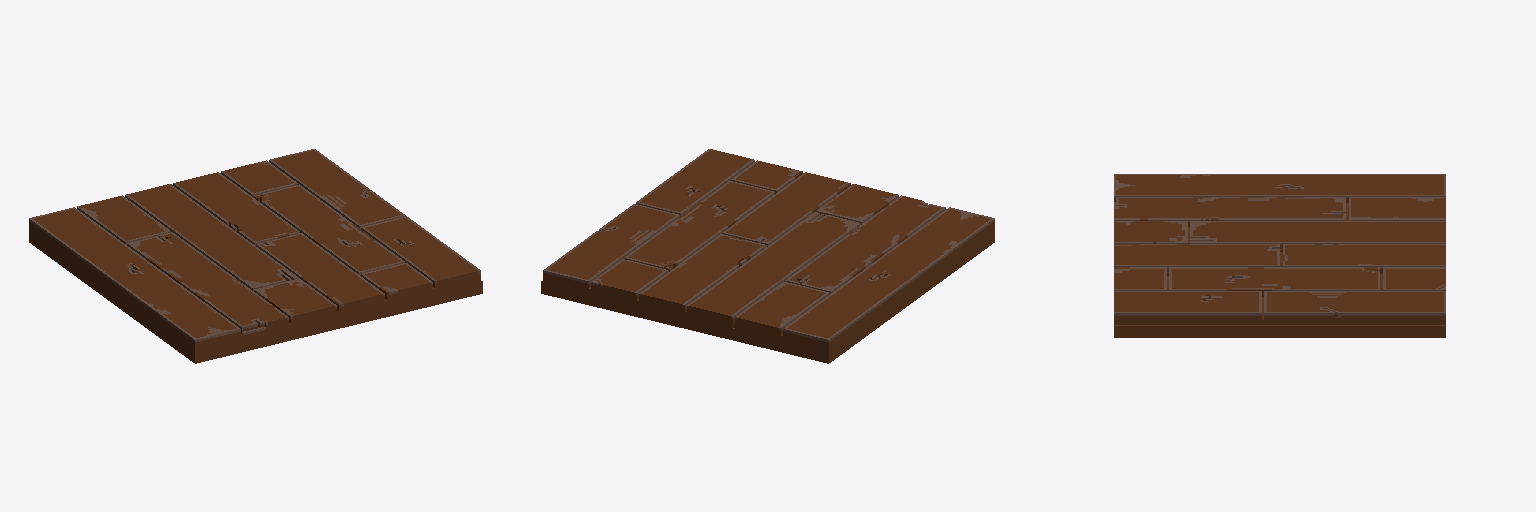
3 views of the same model, side by side, from view 1: azimuth 30°, elevation 25°; view 2: azimuth 150°, elevation 25°; view 3: azimuth 270°, elevation 25° (orthographic).
Parts seen in each view (by area): view 1: object 1; view 2: object 1; view 3: object 1.
Boxes of the visible parts, x1,y1,x2,y2 form: object 1: [29, 149, 482, 363]; object 1: [541, 149, 994, 363]; object 1: [1114, 174, 1445, 337].
Bounding box in the file's own units: 12.6 × 1 × 12.6.
1 materials, 1 textured.